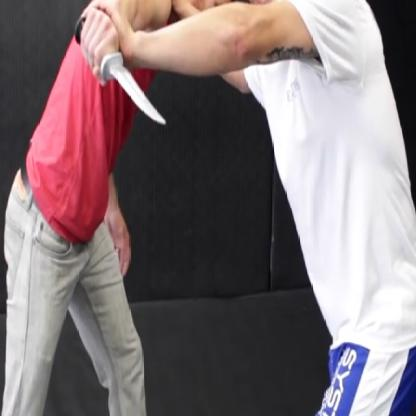knife: (70, 8, 172, 138)
